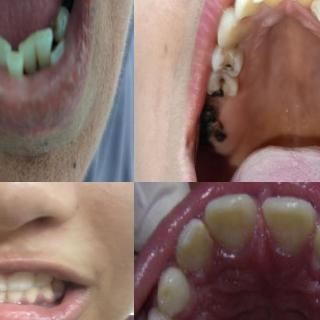cavities: (208, 75, 236, 104), (215, 57, 241, 80)
maligned: (46, 28, 71, 76), (3, 48, 25, 80), (304, 0, 320, 36)
